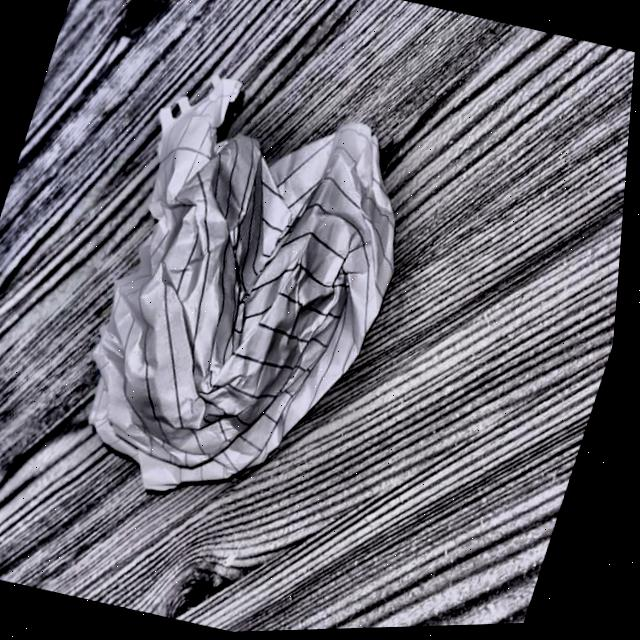paper: (49, 77, 440, 535)
